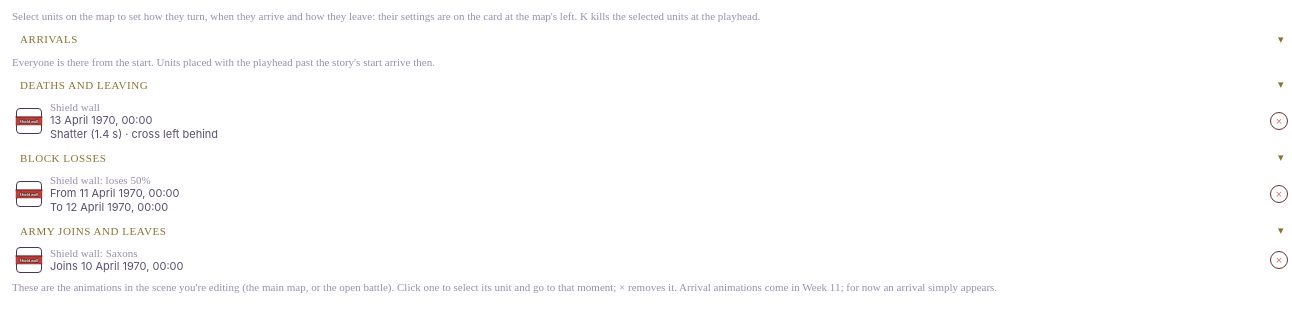
a section folds away when its title is clicked
What coordinates should you click on to do the following:
click the element showing "Army joins and leaves ▾"
I would click on:
 (93, 230)
Its box is [20,224,1284,236].
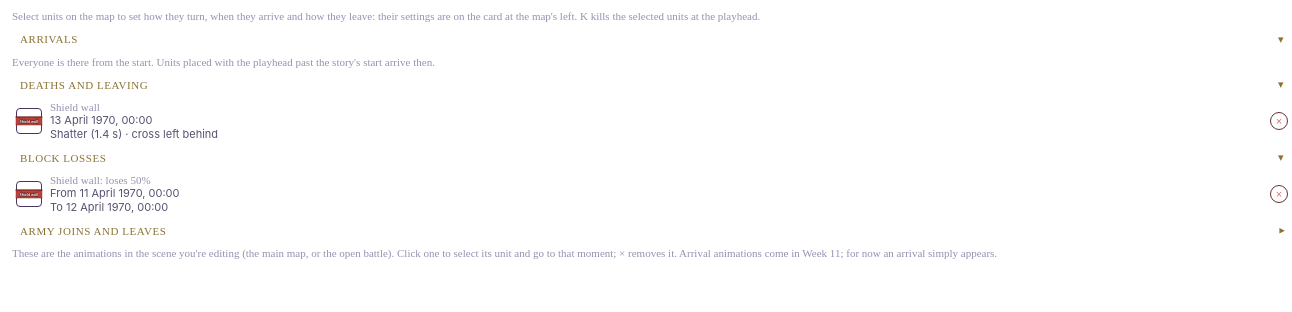
Now the text "Shield wall: Saxons" is gone
What coordinates should you click on to do the following:
click the element showing "Army joins and leaves ▾"
I would click on:
 (93, 230)
Its box is [20,224,1286,236].
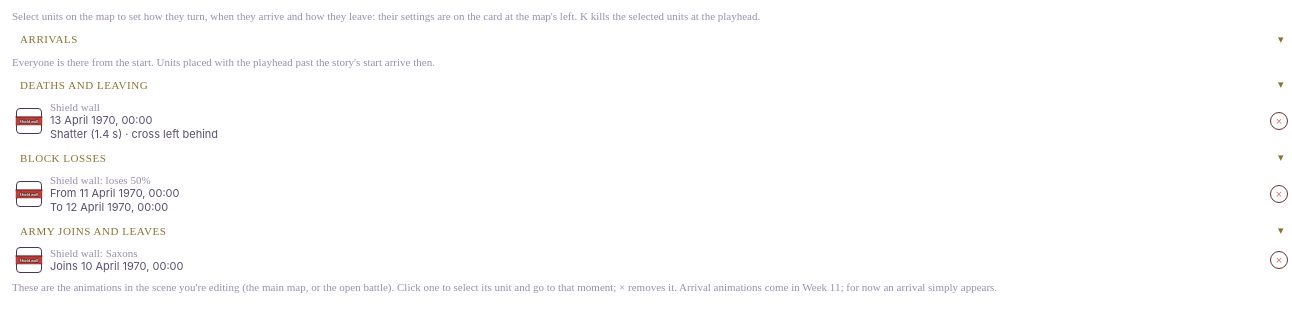
Now the text "Shield wall: Saxons" is shown
